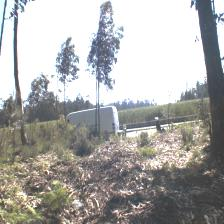trunktrack_idkeyframe: (199, 16, 223, 139), (10, 24, 28, 151)
